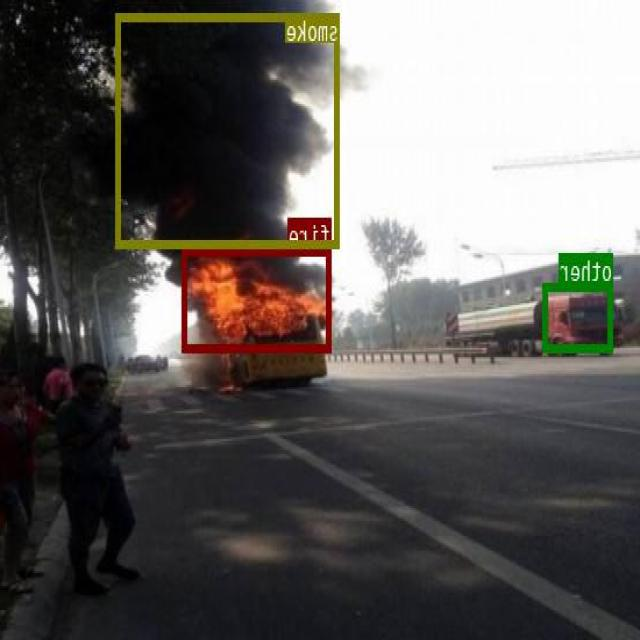fire: (183, 247, 332, 351)
other: (544, 283, 614, 351)
smoke: (117, 11, 340, 248)
